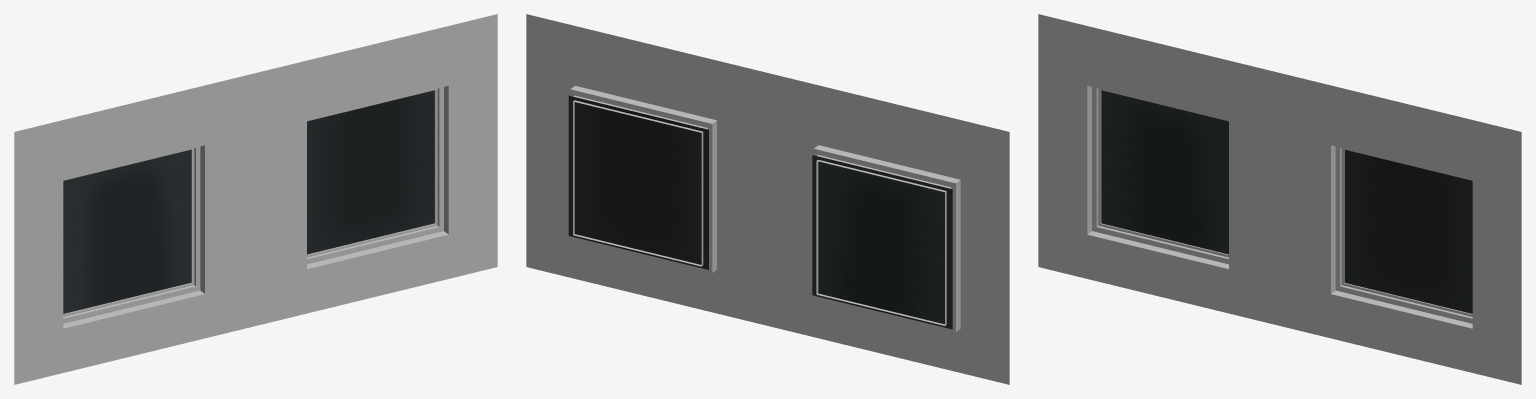
File: House_06_Window_03.fbx
3 views of the same model, side by side, from view 1: azimuth 30°, elevation 25°; view 2: azimuth 150°, elevation 25°; view 3: azimuth 330°, elevation 25° (orthographic).
Parts seen in each view (by area): view 1: House_06_Window_03; view 2: House_06_Window_03; view 3: House_06_Window_03.
Boxes of the visible parts, x1,y1,x2,y2 form: House_06_Window_03: [14, 14, 497, 384]; House_06_Window_03: [526, 14, 1009, 384]; House_06_Window_03: [1038, 14, 1521, 384].
Bounding box in the file's own units: 400 × 200 × 12.88.
